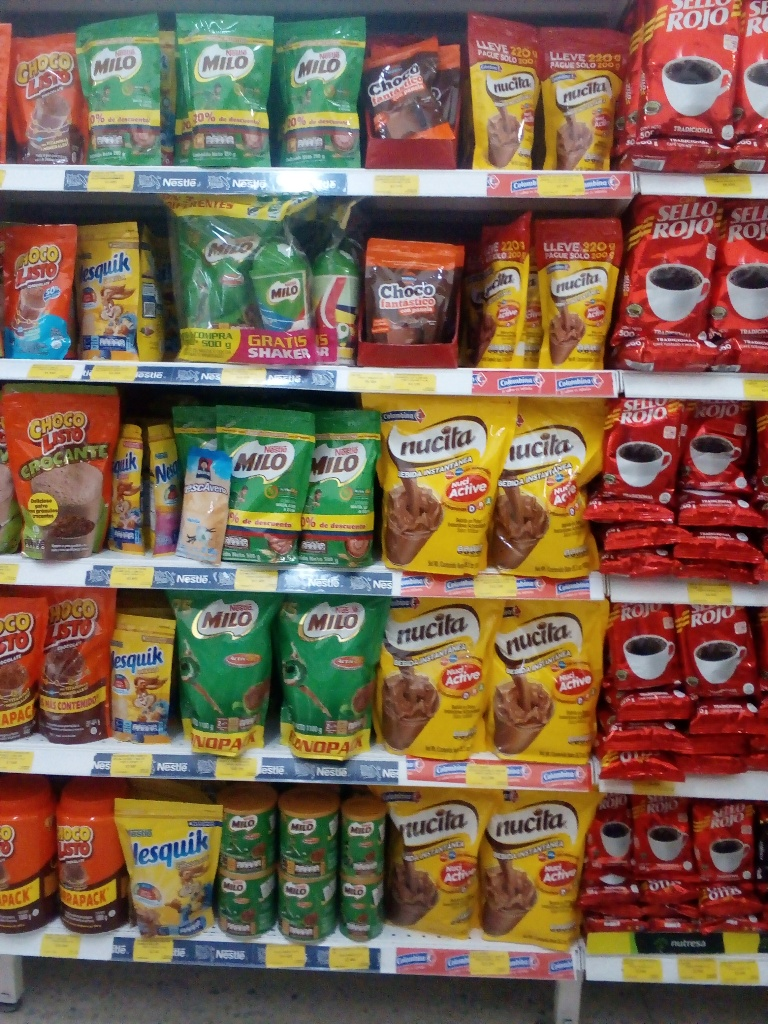COL0170102DYP50000: (2, 381, 126, 570)
COL0170103DYP44000: (25, 583, 115, 745)
COL0170103TRR00100: (53, 777, 132, 936)
COL0170104DYP20000: (2, 218, 77, 359)
COL0170203DYP25000: (73, 6, 168, 170)
COL0170203DYP50000: (298, 402, 384, 566)
COL0170203LAT20000: (343, 798, 388, 874)
COL0170203LAT40000: (282, 781, 337, 873)
COL0170305DYP20000: (143, 418, 177, 561)
COL0170306DYP20000: (73, 214, 148, 360)
